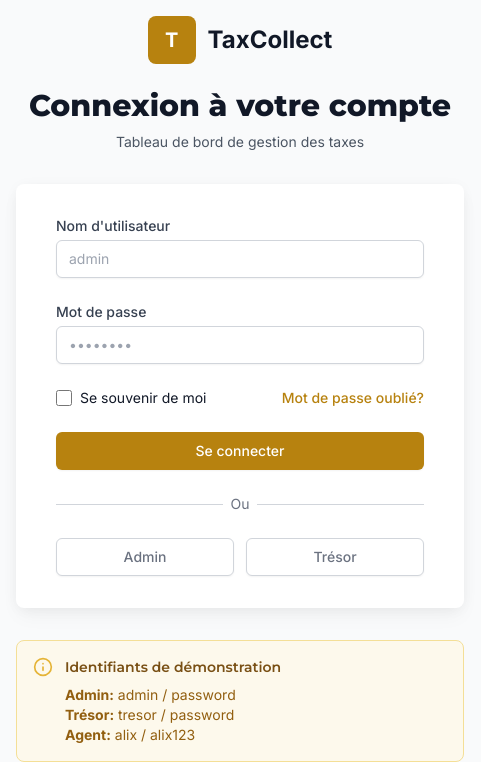
Scenario: Login.vue › LG-02: should show error on failed login
Type "wronguser" into the field with test id "email-input". click: (240,259)
box: [56,240,424,278]
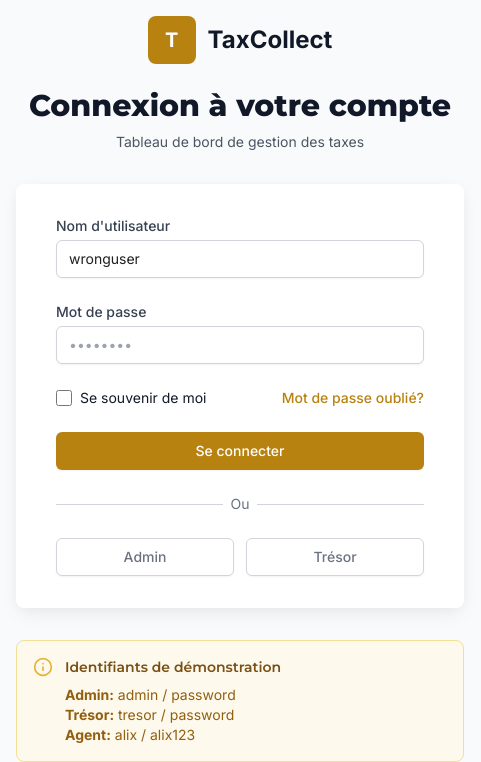
Type "wrongpass" into the password field with test id "password-input". click: (240,345)
box: [56,326,424,364]
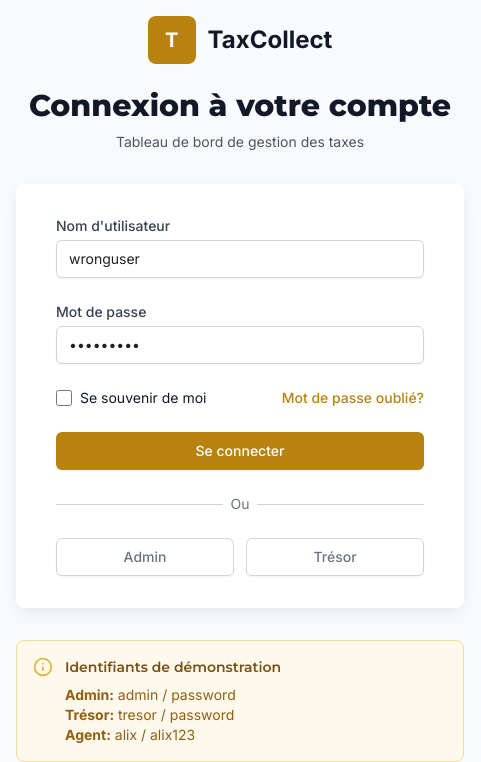
Submit the form, box [56,216,424,470]
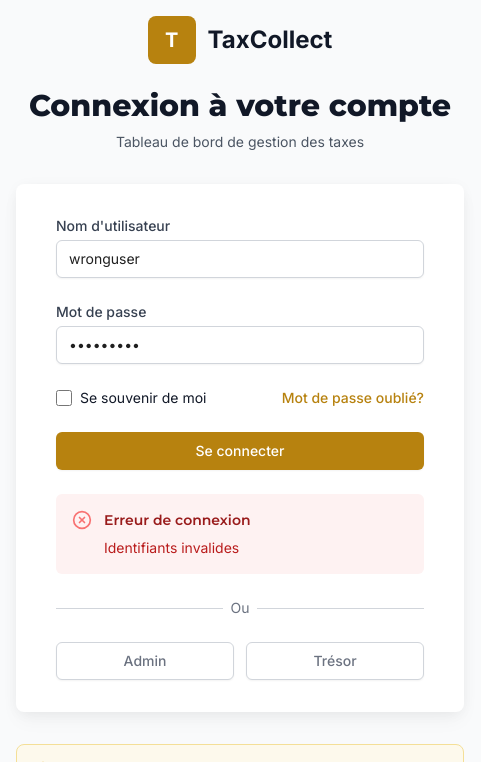
Expected: the element with test id "error-message" is shown, [56,494,424,574]
Expected: the element with test id "error-message" shows "Identifiants invalides", [104,539,239,556]
